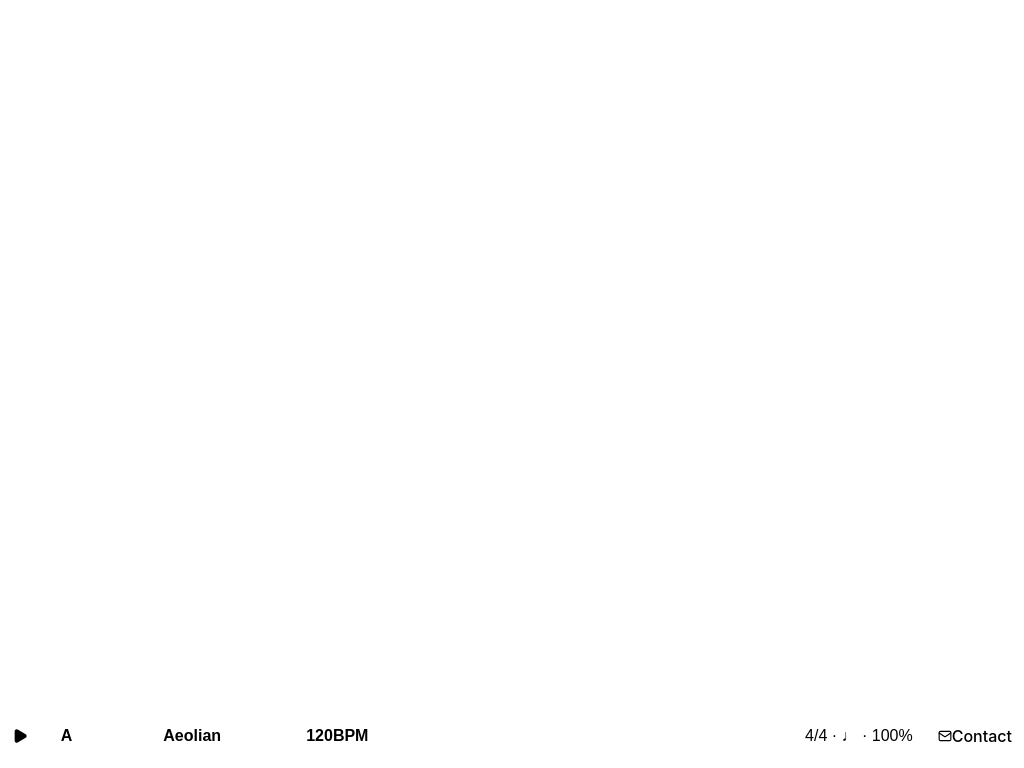
Contact (right end, after meter & volume) shows the email with Copy — no mail app needed — and an optional mail link
This screenshot has width=1024, height=768.
Click the button "Contact".
click(975, 736)  # box x1=926 y1=720 x2=1023 y2=752
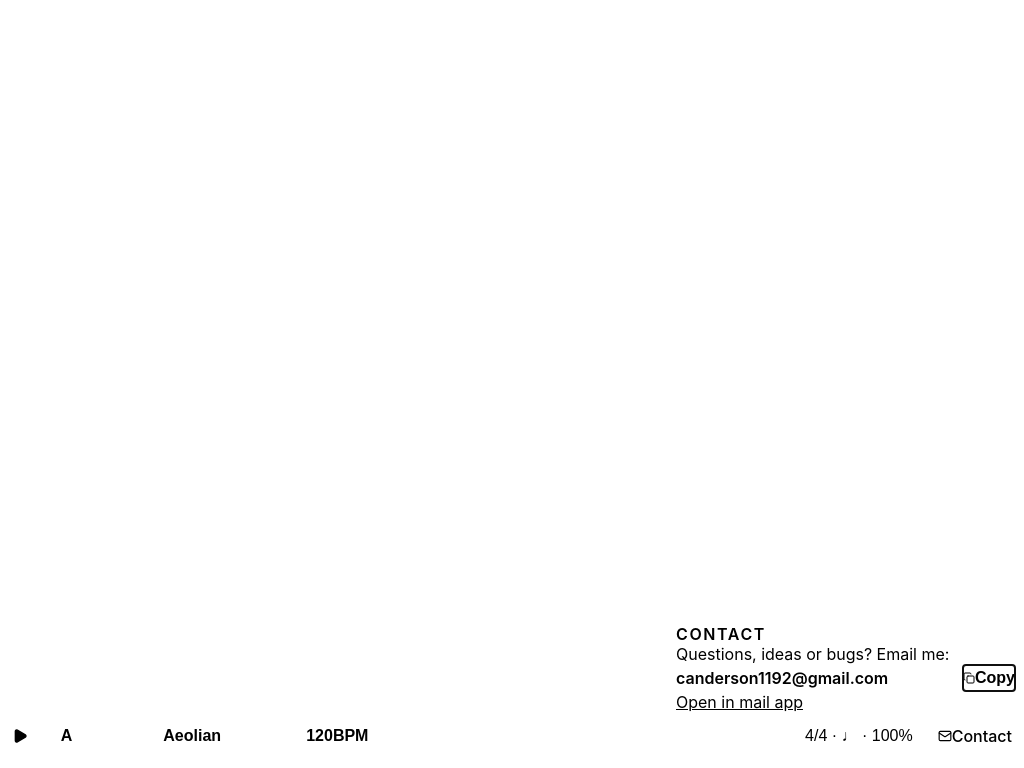
expect the text "canderson1192@gmail.com" is shown: met, box x1=676 y1=668 x2=888 y2=688
Click the button "Copy".
click(989, 678)  # box x1=962 y1=664 x2=1016 y2=692
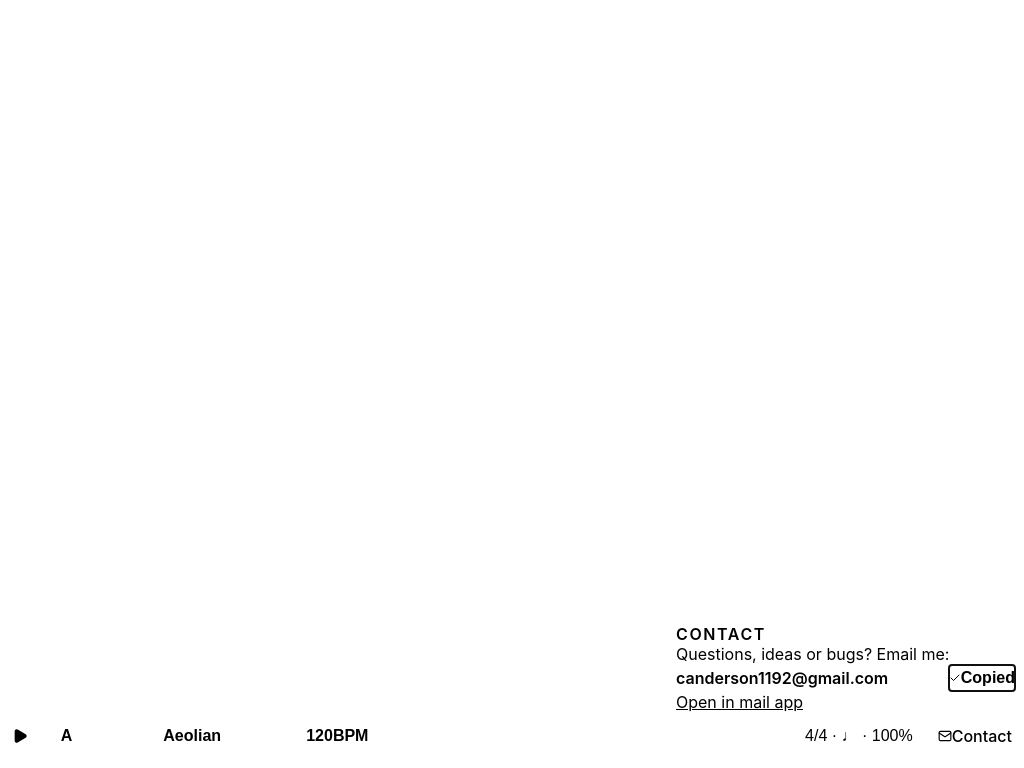
expect the button "Copied" is shown: met, box x1=948 y1=664 x2=1016 y2=692
